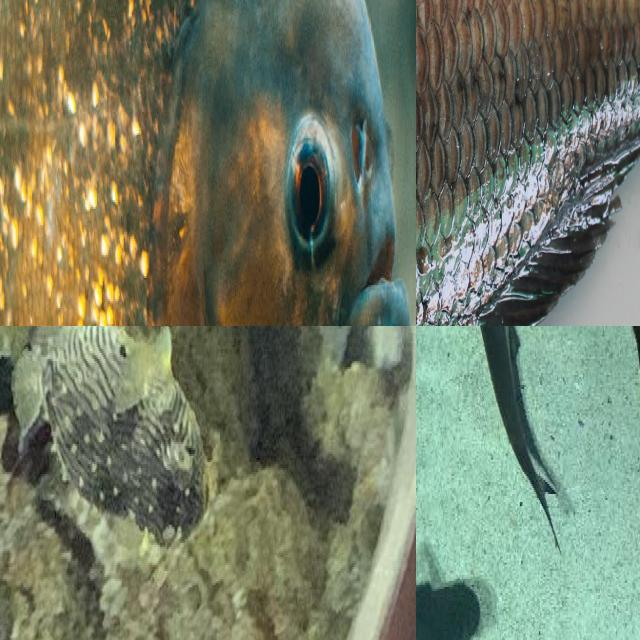fish: (0, 0, 416, 326), (416, 0, 640, 326), (0, 326, 219, 550), (440, 326, 563, 546)
